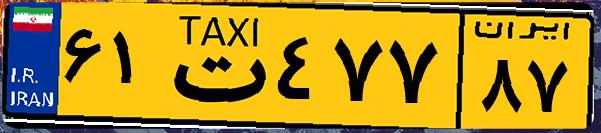1: (110, 28, 158, 98)
4: (270, 28, 330, 110)
6: (57, 26, 110, 100)
7: (385, 28, 445, 110), (330, 28, 385, 110), (525, 38, 570, 115)
8: (475, 38, 525, 113)
ت: (158, 12, 270, 120)
